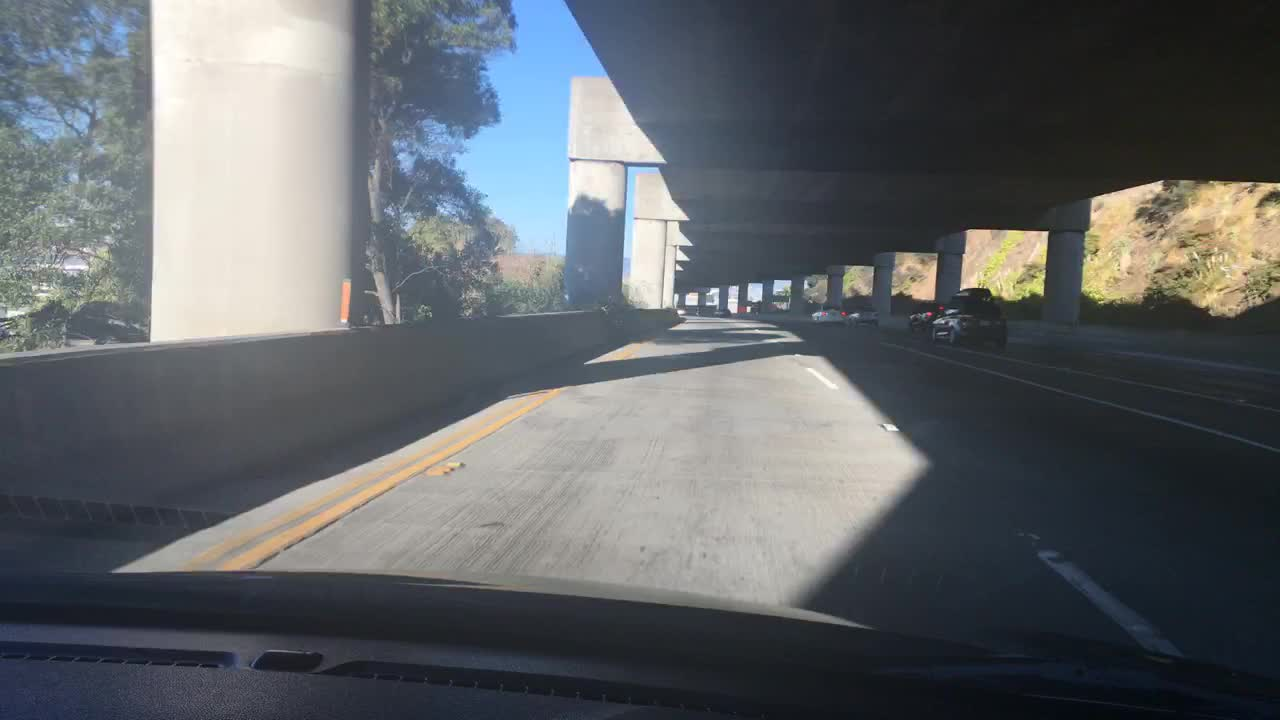car: (930, 285, 1009, 348), (908, 302, 948, 336), (846, 301, 878, 328), (807, 307, 847, 324), (762, 301, 785, 315), (707, 305, 729, 318), (677, 302, 689, 315), (752, 305, 762, 314)
